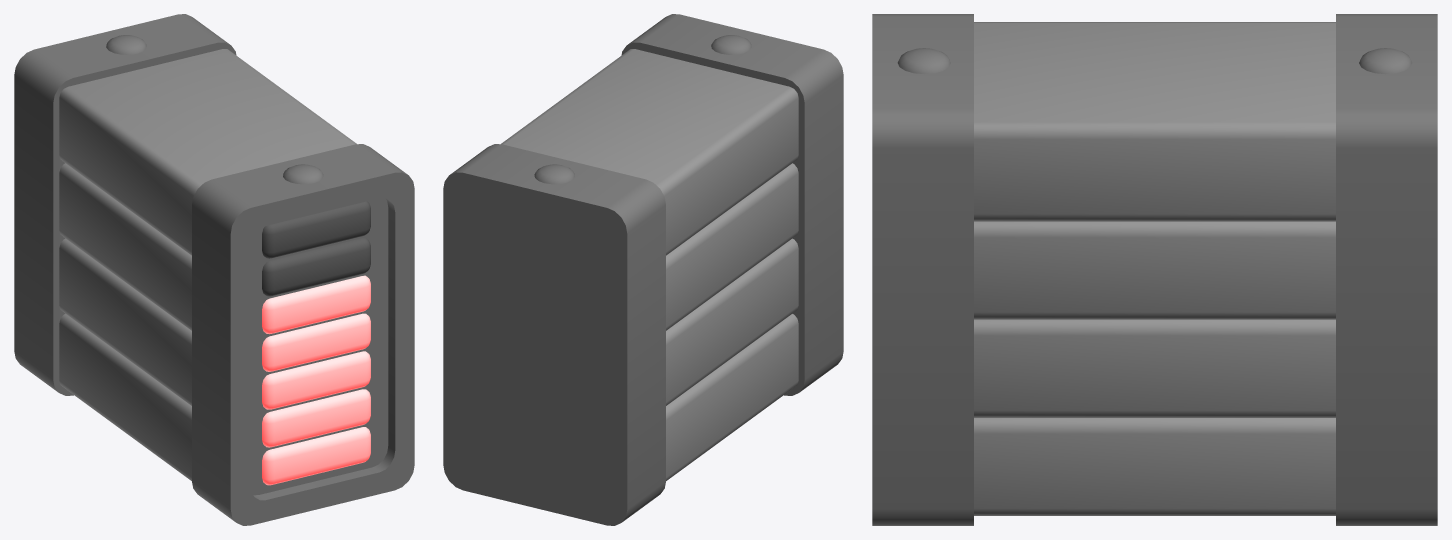
The model's file is battery.glb.
The picture shows the model from 3 angles, left to right: view 1: azimuth 30°, elevation 25°; view 2: azimuth 150°, elevation 25°; view 3: azimuth 270°, elevation 25°; orthographic projection. The views are drawn at different scales.
Parts seen in each view (by area): view 1: Null-PBR (×4); view 2: Null-PBR (×2); view 3: Null-PBR (×2).
Boxes of the visible parts, x1=… form: Null-PBR (×4): x1=14, y1=14, x2=414, y2=525; Null-PBR (×2): x1=443, y1=14, x2=843, y2=525; Null-PBR (×2): x1=872, y1=14, x2=1437, y2=525.
Bounding box in the file's own units: 0.6398 × 1.08 × 1.3.
